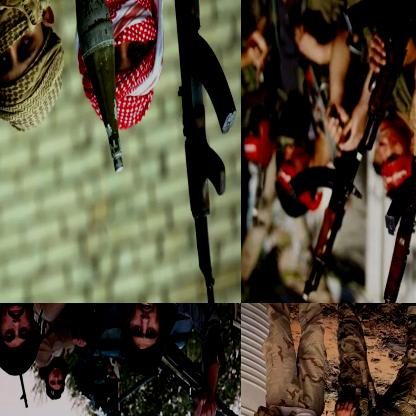rifle: (170, 0, 240, 302), (335, 0, 415, 205), (72, 0, 126, 171), (291, 158, 355, 302), (369, 106, 415, 302), (363, 379, 406, 415)
